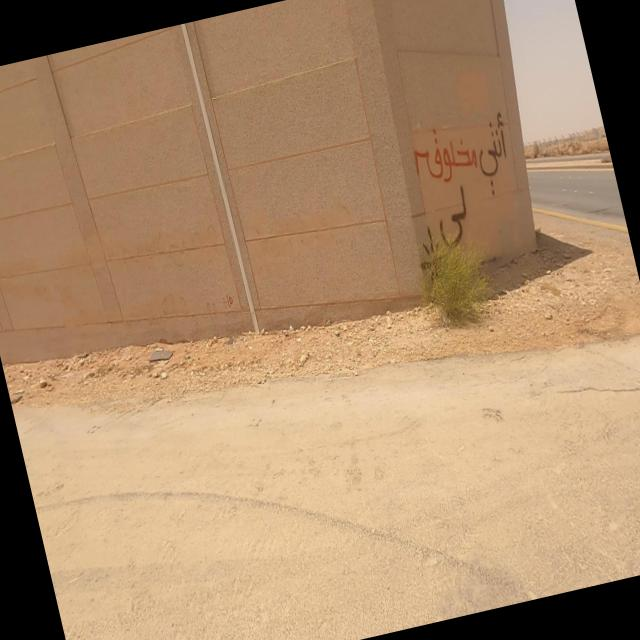Graffiti: (408, 111, 531, 254), (415, 225, 441, 271), (223, 294, 238, 315)
